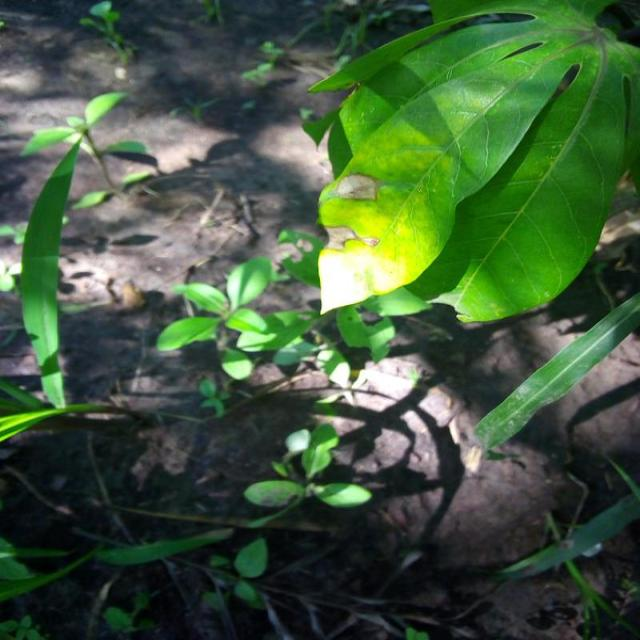cassava leaf: (306, 0, 639, 324)
